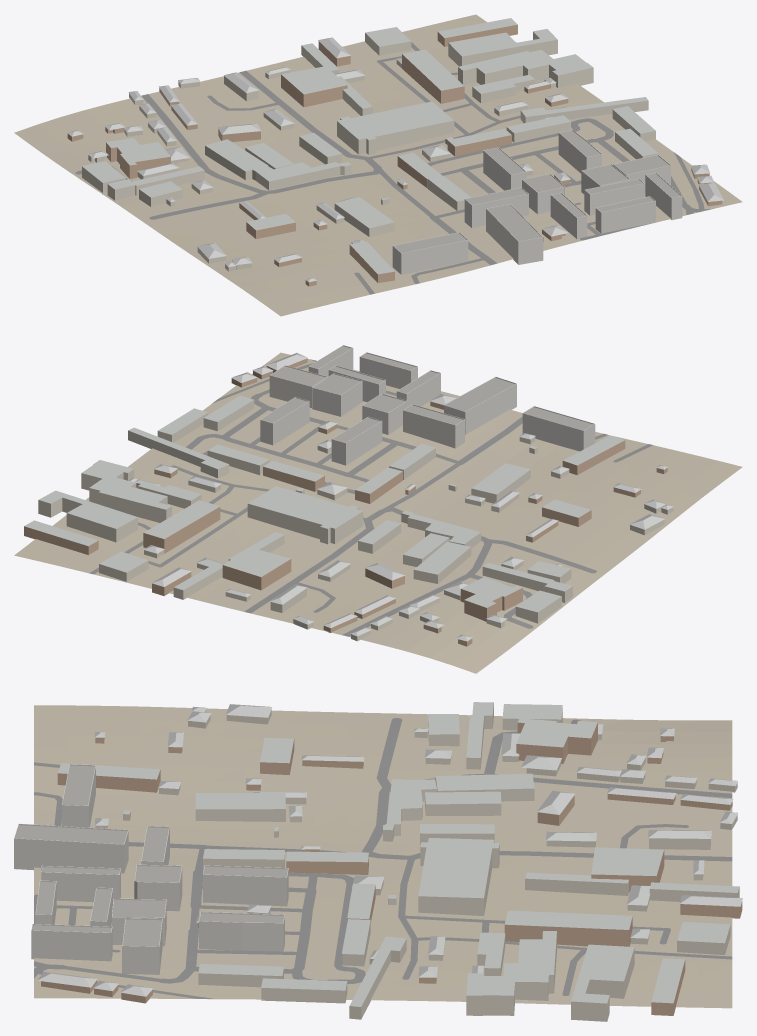
Rendered from bolak_-6_-7.glb.
3 renders of one model, top to bottom at view 1: azimuth 30°, elevation 25°; view 2: azimuth 150°, elevation 25°; view 3: azimuth 270°, elevation 25°, orthographic. The views are drawn at different scales.
Visible parts, largest first — view 1: Yer_Tuproq-col, Tom_Shifer, Devor_Suvoq-col, Devor_Panel-col, Yol_Mahalla-col, Devor_Gisht-col, Tom_Tekis; view 2: Yer_Tuproq-col, Tom_Shifer, Devor_Suvoq-col, Devor_Panel-col, Devor_Gisht-col, Yol_Mahalla-col, Tom_Tekis; view 3: Yer_Tuproq-col, Tom_Shifer, Devor_Suvoq-col, Devor_Panel-col, Yol_Mahalla-col, Devor_Gisht-col, Tom_Tekis.
Part boxes in pixels (x1,y1,x2,y2): Yer_Tuproq-col: (14,14,742,316); Tom_Shifer: (67,18,723,282); Devor_Suvoq-col: (82,31,658,271); Devor_Panel-col: (392,129,682,274); Yol_Mahalla-col: (75,42,712,294); Devor_Gisht-col: (67,24,722,286); Tom_Tekis: (394,131,680,252); Yer_Tuproq-col: (14,352,742,673); Tom_Shifer: (24,353,673,641); Devor_Suvoq-col: (38,400,673,641); Devor_Panel-col: (260,345,595,465); Devor_Gisht-col: (24,358,667,646); Yol_Mahalla-col: (89,359,652,636); Tom_Tekis: (262,346,593,442); Yer_Tuproq-col: (34,705,732,1008); Tom_Shifer: (37,702,742,1006); Devor_Suvoq-col: (95,703,739,1021); Devor_Panel-col: (14,764,288,974); Yol_Mahalla-col: (34,718,732,998); Devor_Gisht-col: (41,722,742,1015); Tom_Tekis: (15,765,287,946).
Size of what is drawn, in the model's own units: 424 by 29.06 by 417.
